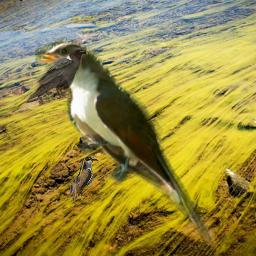Crow: (25, 47, 89, 103)
Cuckoo: (35, 37, 215, 244), (70, 157, 105, 201)
